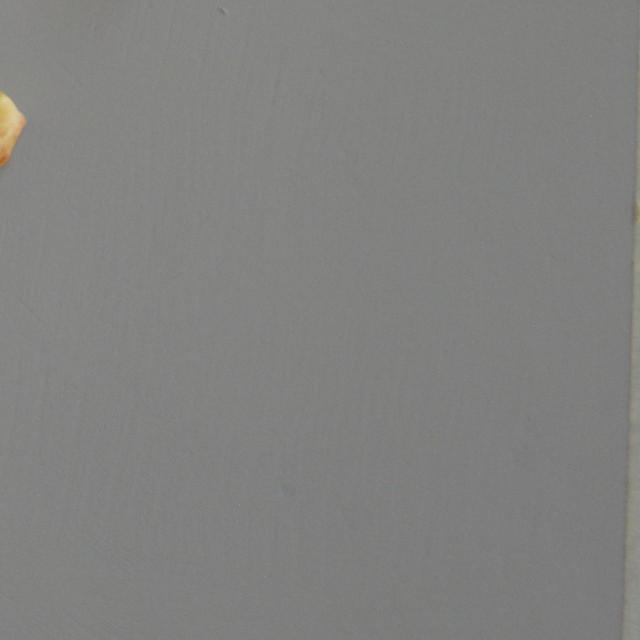dañado: (0, 88, 28, 174)
